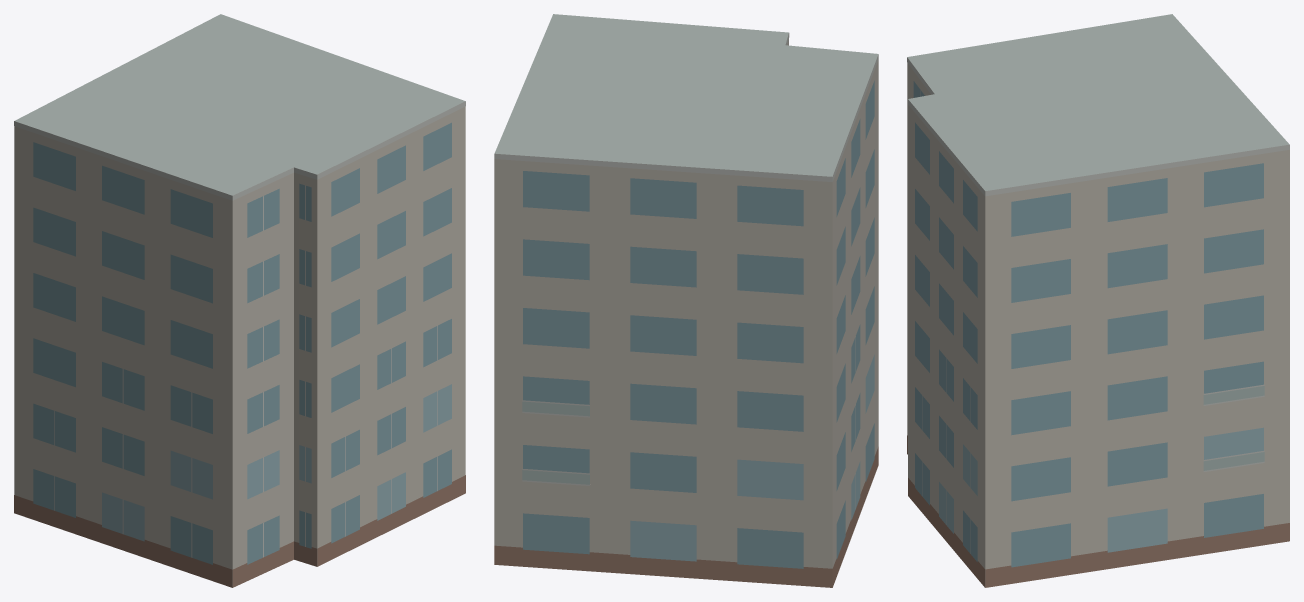
The model's file is survey-upis-32956693.glb.
3 renders of one model, left to right at view 1: azimuth 30°, elevation 25°; view 2: azimuth 150°, elevation 25°; view 3: azimuth 270°, elevation 25°, orthographic. The views are drawn at different scales.
Parts seen in each view (by area): view 1: survey-upis-32956693.tmp; view 2: survey-upis-32956693.tmp; view 3: survey-upis-32956693.tmp.
Part boxes in pixels (left/top/right/bottom): survey-upis-32956693.tmp: left=14, top=14, right=465, bottom=587; survey-upis-32956693.tmp: left=494, top=14, right=878, bottom=587; survey-upis-32956693.tmp: left=907, top=14, right=1289, bottom=587.
Size of the model in its own units: 18.02 by 18.8 by 16.45.
